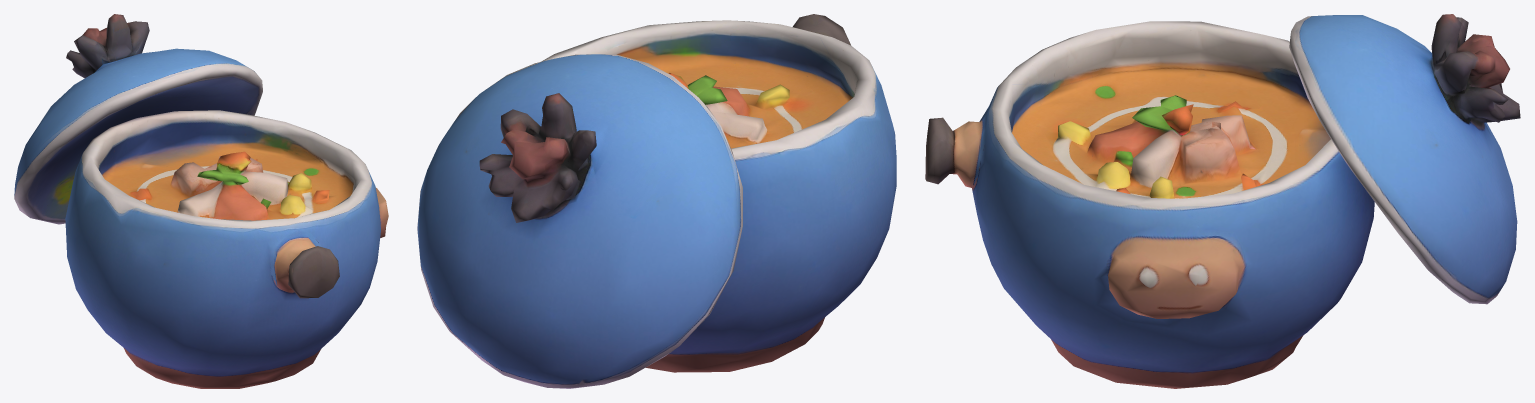
The model's file is tripo_convert_7a7dd81c-37e5-4a63-8937-5b76b113dc99.fbx.
3 renders of one model, left to right at view 1: azimuth 30°, elevation 25°; view 2: azimuth 150°, elevation 25°; view 3: azimuth 270°, elevation 25°, orthographic. The views are drawn at different scales.
Parts seen in each view (by area): view 1: tripo_node_7a7dd81c; view 2: tripo_node_7a7dd81c; view 3: tripo_node_7a7dd81c.
Part boxes in pixels (<box>): tripo_node_7a7dd81c: <box>14,14,388,388</box>; tripo_node_7a7dd81c: <box>417,14,896,388</box>; tripo_node_7a7dd81c: <box>925,14,1520,388</box>.
Size of the model in its own units: 0.7098 by 0.6075 by 0.9879.
Materials: 1 (1 with a texture image).
